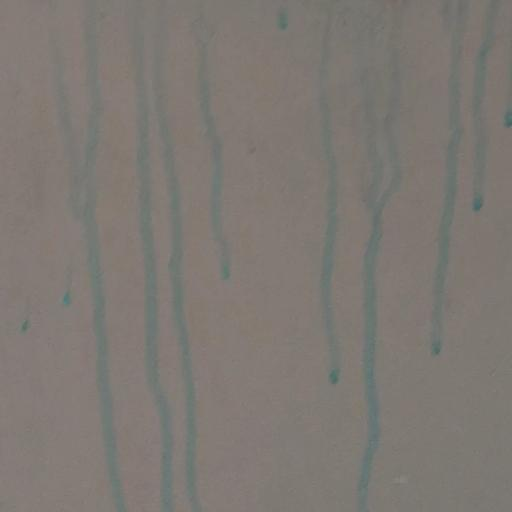stain: (285, 13, 507, 512), (51, 5, 251, 511)
